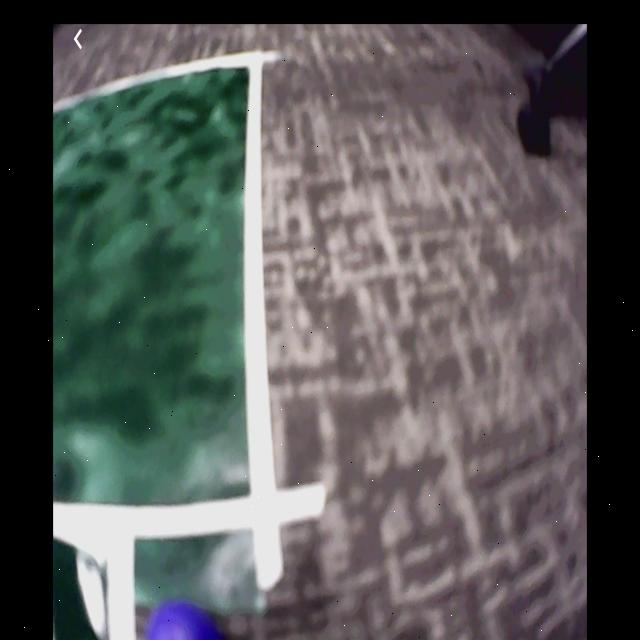ball: (145, 603, 227, 640)
